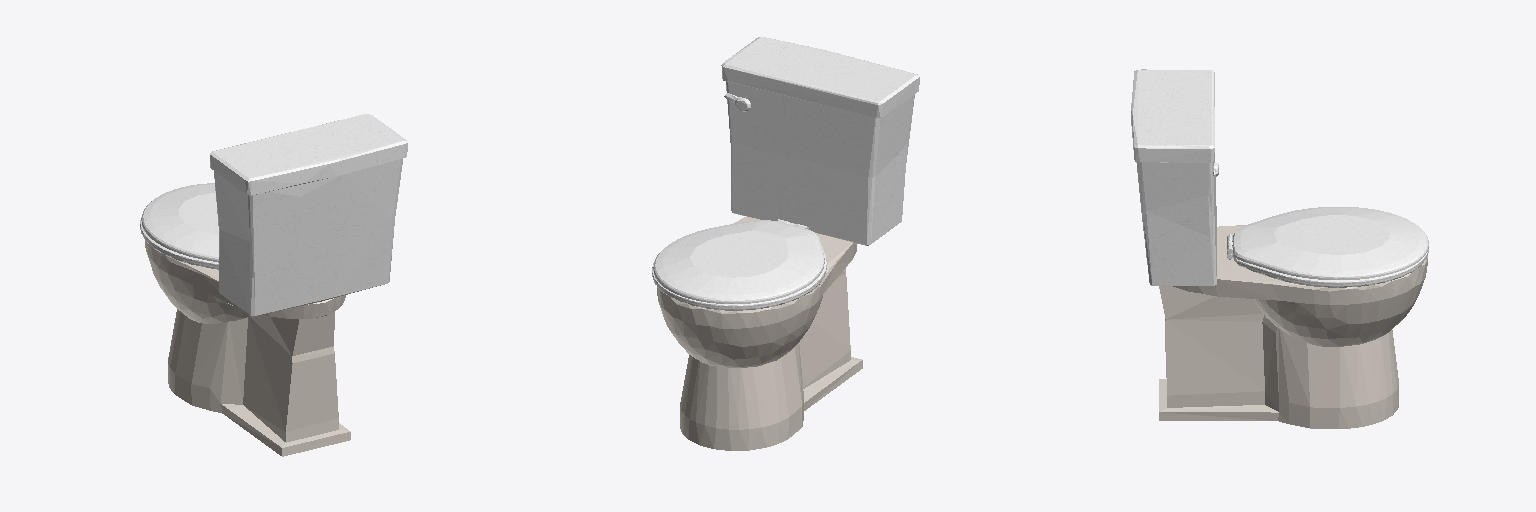
3 views of the same model, side by side, from view 1: azimuth 30°, elevation 25°; view 2: azimuth 150°, elevation 25°; view 3: azimuth 270°, elevation 25° (orthographic).
Visible parts, largest first — view 1: toilet_01, toilet_01_cover; view 2: toilet_01, toilet_01_cover; view 3: toilet_01, toilet_01_cover.
Part boxes in pixels (left/top/right/bottom): toilet_01: left=140, top=114, right=407, bottom=456; toilet_01_cover: left=141, top=183, right=218, bottom=262; toilet_01: left=652, top=37, right=919, bottom=450; toilet_01_cover: left=653, top=220, right=824, bottom=303; toilet_01: left=1131, top=69, right=1428, bottom=428; toilet_01_cover: left=1232, top=207, right=1428, bottom=279.
Size of the model in its own units: 0.5397 by 0.9455 by 0.8603.
Materials: 2 (2 with a texture image).